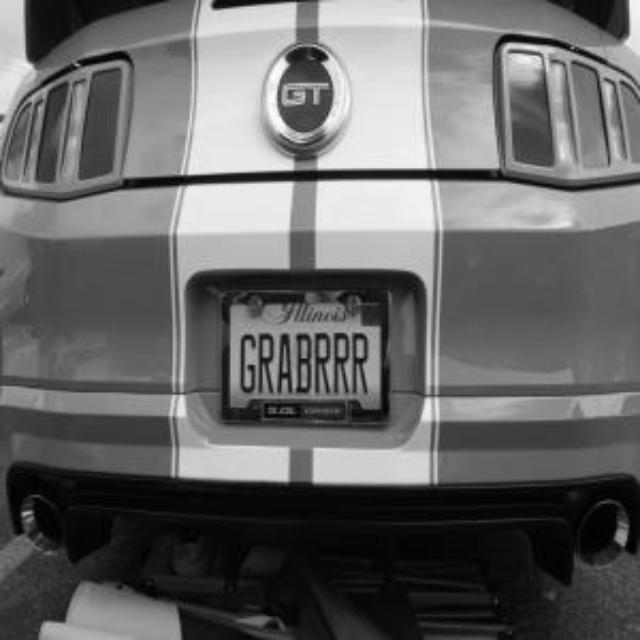License Plate: (220, 288, 391, 424)
